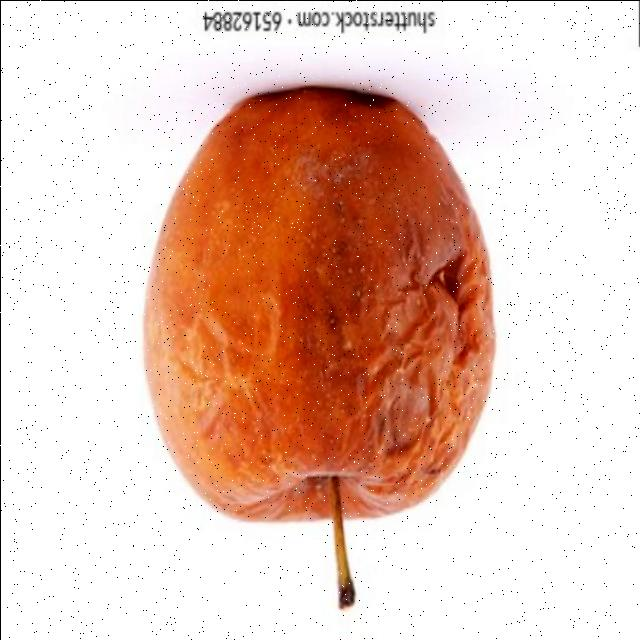ROT: (119, 70, 518, 570)
